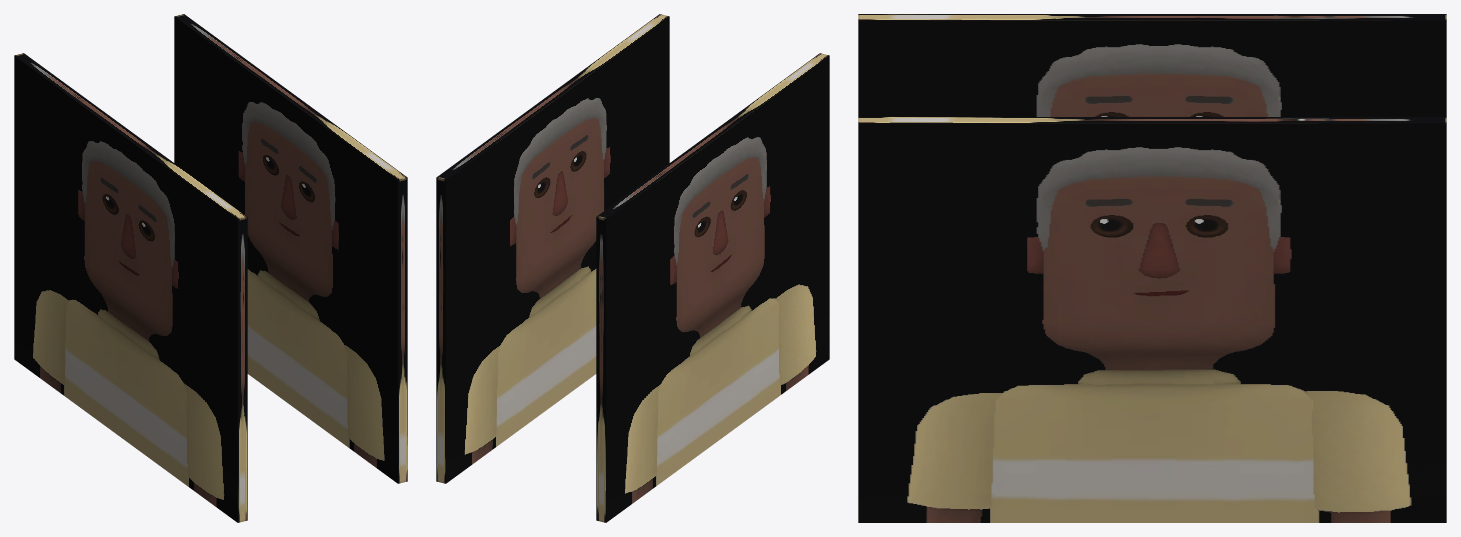
File: twenty.obj
3 renders of one model, left to right at view 1: azimuth 30°, elevation 25°; view 2: azimuth 150°, elevation 25°; view 3: azimuth 270°, elevation 25°, orthographic. The views are drawn at different scales.
Bounding box in the file's own units: 21.22 × 36.23 × 48.34.
Materials: 1 (1 with a texture image).
